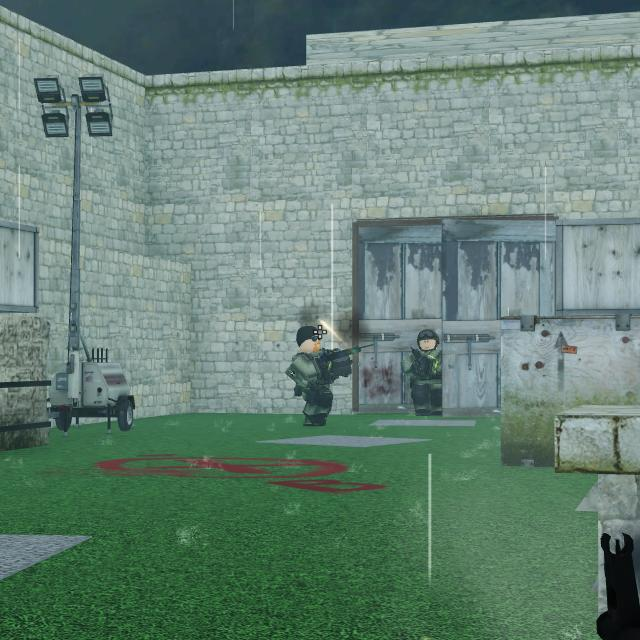Head: (297, 327, 321, 353), (418, 328, 438, 353)
Player: (285, 327, 351, 427), (403, 327, 443, 415)
